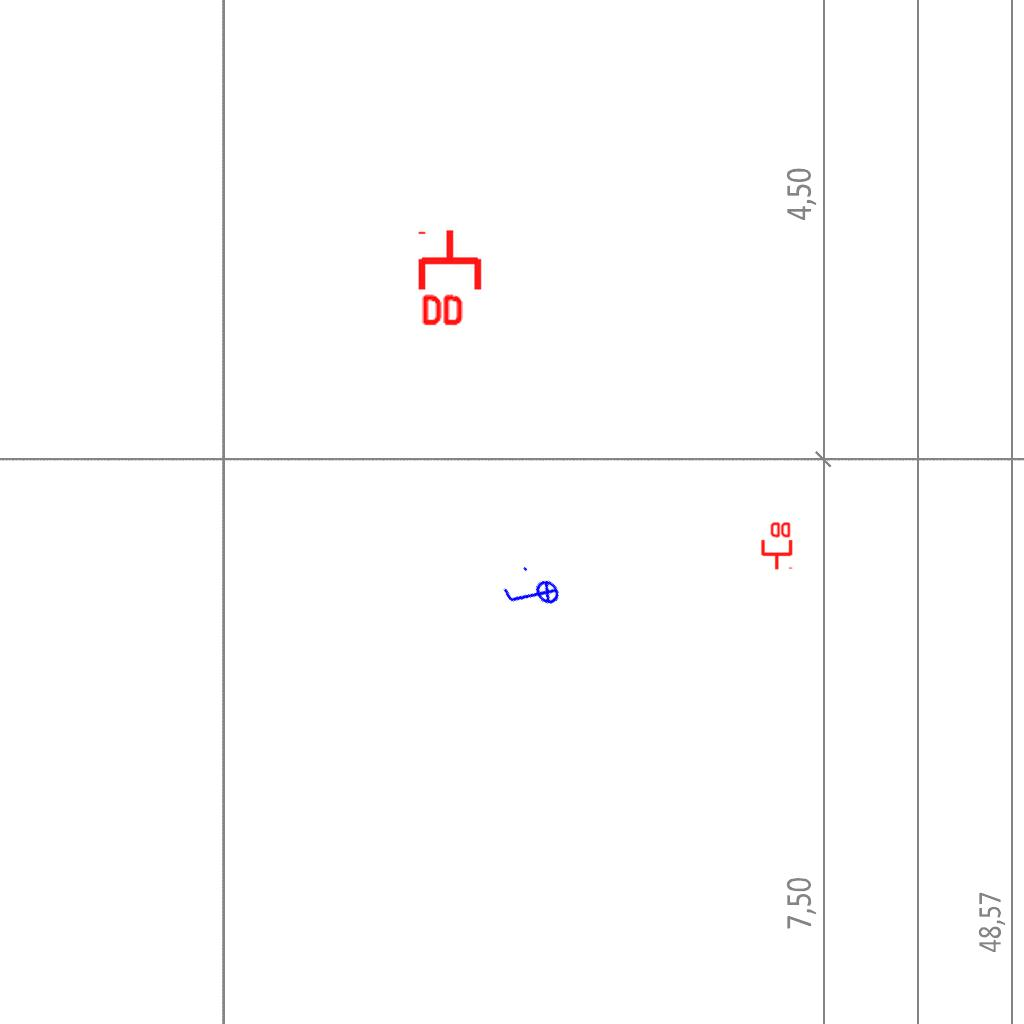Ausschalter_beleuchtet: (495, 558, 569, 632)
Datenanschluss_zweifach: (417, 227, 486, 330), (759, 520, 793, 571)
